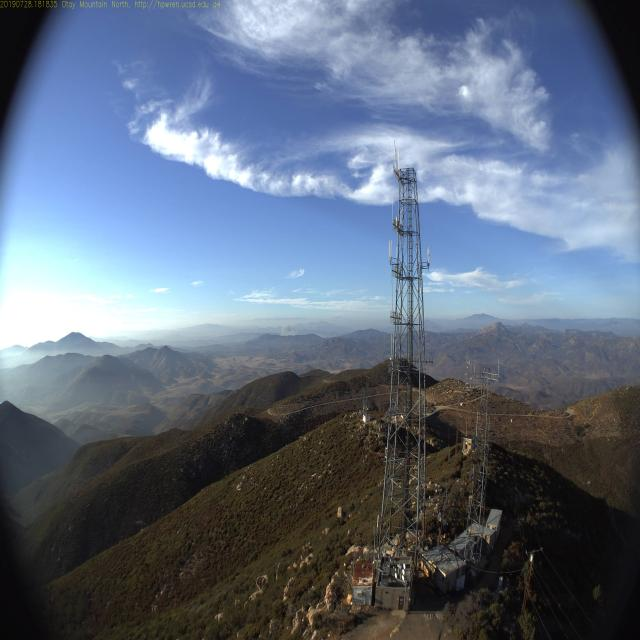smoke: (278, 318, 300, 341)
